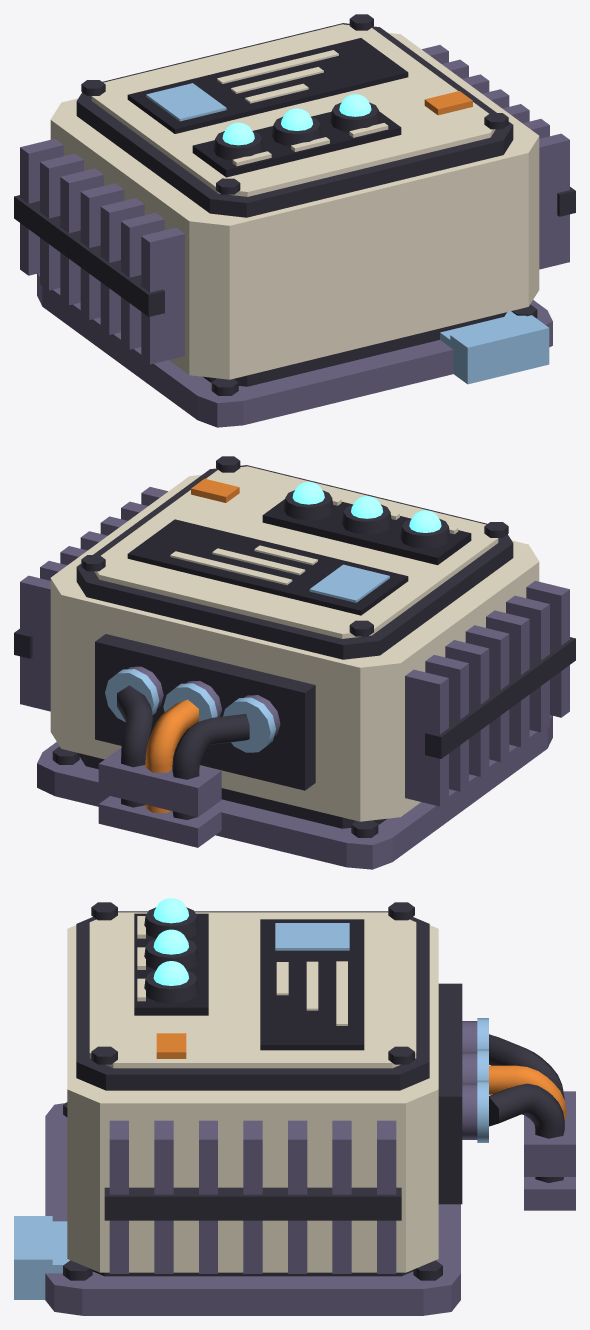
Rendered from gnc_unit.glb.
The picture shows the model from 3 angles, top to bottom: view 1: azimuth 30°, elevation 25°; view 2: azimuth 150°, elevation 25°; view 3: azimuth 270°, elevation 25°; orthographic projection. The views are drawn at different scales.
Visible parts, largest first — view 1: gnc_CreamHull, gnc_PurpleGrey, gnc_Graphite, gnc_DecalDark, gnc_PaleBlue, gnc_Emissive, gnc_Orange; view 2: gnc_CreamHull, gnc_PurpleGrey, gnc_Graphite, gnc_DecalDark, gnc_PaleBlue, gnc_Orange, gnc_Emissive; view 3: gnc_CreamHull, gnc_PurpleGrey, gnc_Graphite, gnc_DecalDark, gnc_PaleBlue, gnc_Orange, gnc_Emissive.
Part boxes in pixels (box(x1,y1,x2,y2)): gnc_CreamHull: box(50, 24, 539, 379); gnc_PurpleGrey: box(20, 45, 569, 427); gnc_Graphite: box(14, 14, 575, 395); gnc_DecalDark: box(127, 38, 408, 177); gnc_PaleBlue: box(146, 83, 549, 384); gnc_Emissive: box(222, 94, 371, 145); gnc_Orange: box(424, 91, 472, 115); gnc_CreamHull: box(50, 466, 539, 821); gnc_PurpleGrey: box(20, 487, 569, 869); gnc_Graphite: box(14, 456, 575, 837); gnc_DecalDark: box(127, 499, 471, 615); gnc_PaleBlue: box(105, 564, 389, 752); gnc_Orange: box(145, 478, 239, 812); gnc_Emissive: box(292, 481, 441, 532); gnc_CreamHull: box(67, 912, 438, 1272); gnc_PurpleGrey: box(45, 1021, 575, 1315); gnc_Graphite: box(63, 902, 564, 1280); gnc_DecalDark: box(134, 913, 364, 1050); gnc_PaleBlue: box(14, 923, 488, 1299); gnc_Orange: box(156, 1033, 566, 1119); gnc_Emissive: box(153, 898, 188, 985).
Bounding box in the file's own units: 0.366 × 0.202 × 0.3785.
